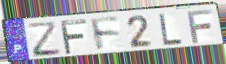2: (125, 14, 154, 50)
F: (89, 16, 123, 53), (59, 18, 90, 57), (186, 8, 215, 44)
L: (157, 12, 184, 47)
Z: (26, 20, 64, 59)
